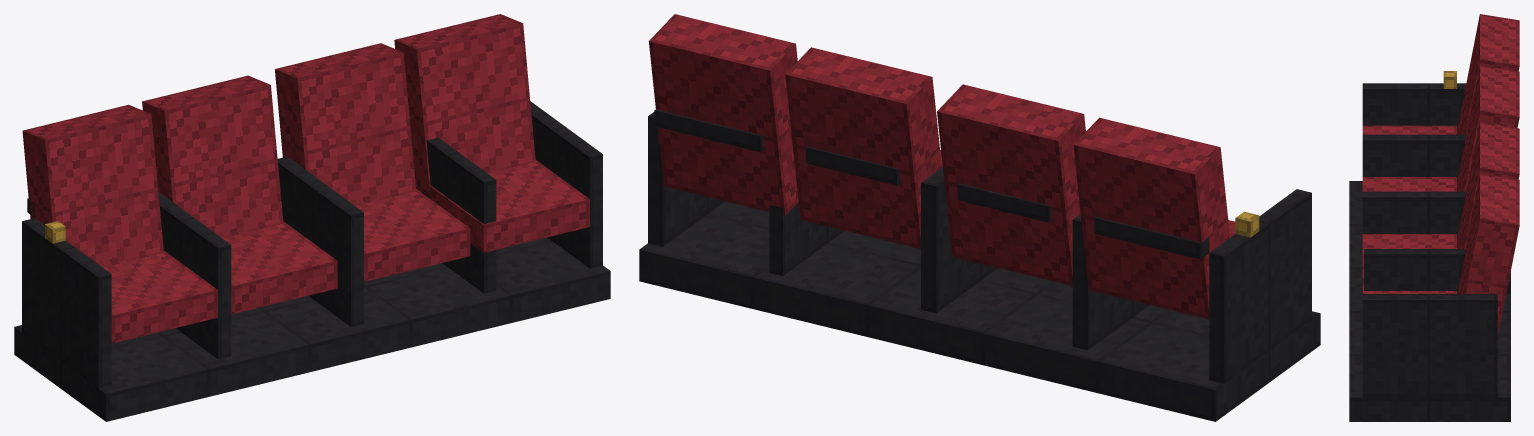
Rendered from cinemaSeats_0.glb.
3 views of the same model, side by side, from view 1: azimuth 30°, elevation 25°; view 2: azimuth 150°, elevation 25°; view 3: azimuth 270°, elevation 25° (orthographic). The views are drawn at different scales.
Parts seen in each view (by area): view 1: cinemaSeats_0; view 2: cinemaSeats_0; view 3: cinemaSeats_0.
Part boxes in pixels (bbox=[...]): cinemaSeats_0: bbox=[14, 14, 610, 421]; cinemaSeats_0: bbox=[639, 14, 1320, 421]; cinemaSeats_0: bbox=[1349, 14, 1519, 421].
Size of the model in its own units: 2.38 by 1.01 by 0.7904.
Materials: 1 (1 with a texture image).
